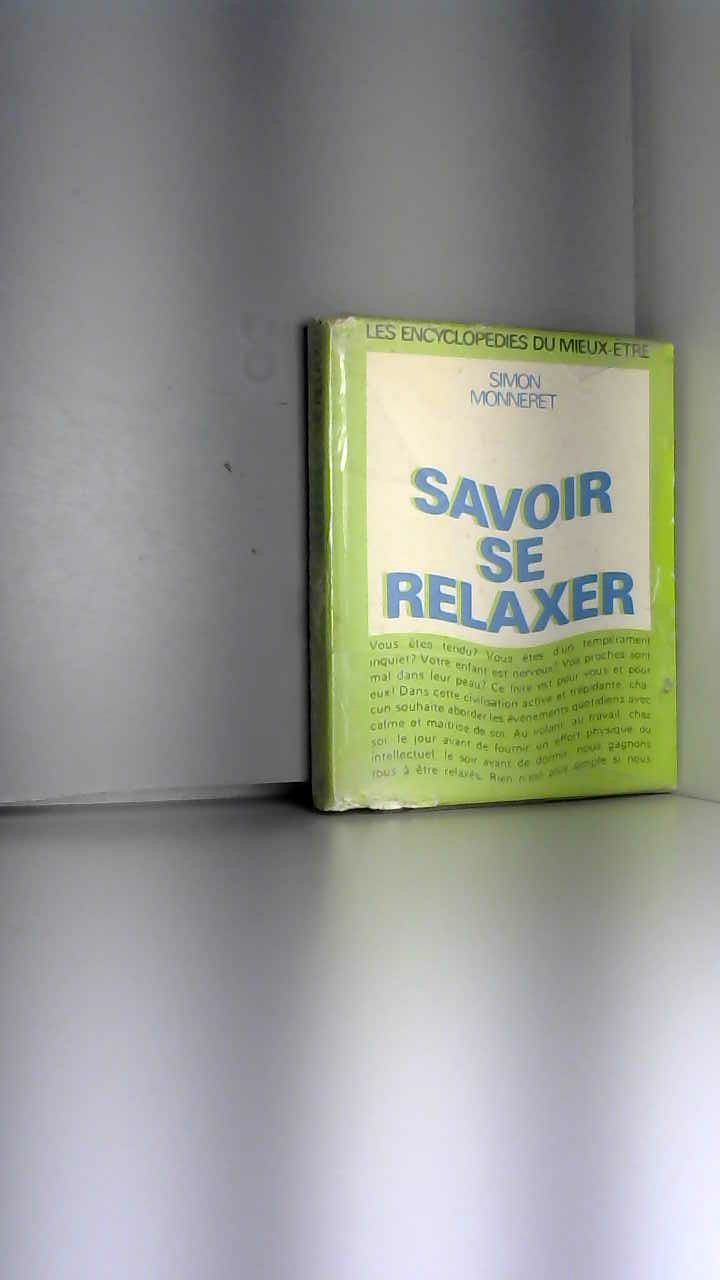book: (270, 290, 719, 842)
